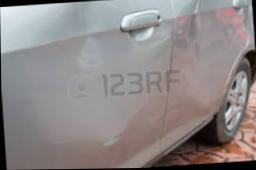Door: (9, 26, 164, 158), (161, 0, 232, 90)
